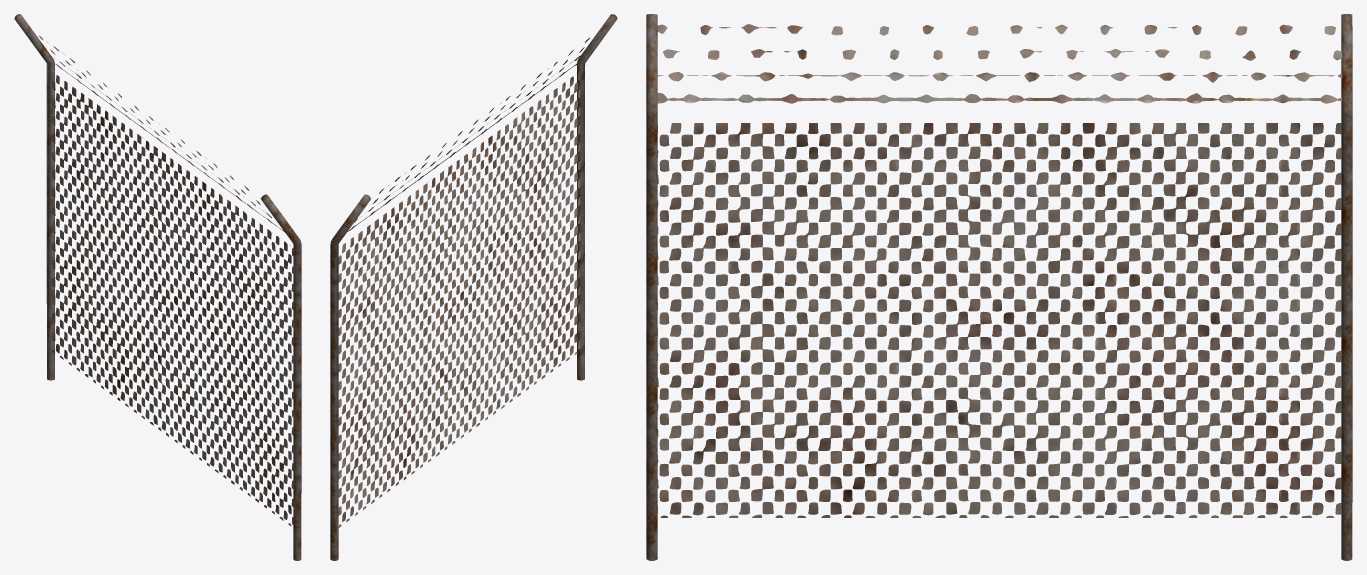
Rendered from chainlink.lod1.glb.
3 views of the same model, side by side, from view 1: azimuth 30°, elevation 25°; view 2: azimuth 150°, elevation 25°; view 3: azimuth 270°, elevation 25° (orthographic). The views are drawn at different scales.
Parts seen in each view (by area): view 1: Object_4; view 2: Object_4; view 3: Object_4.
Part boxes in pixels (x1,y1,x2,y2): Object_4: (14, 14, 301, 560); Object_4: (330, 14, 617, 560); Object_4: (646, 14, 1352, 560).
Bounding box in the file's own units: 0.266 × 2.4 × 2.93.
1 material, 1 textured.
